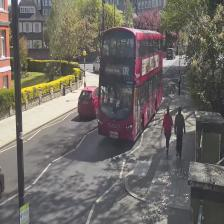person: (161, 106, 173, 156), (174, 106, 185, 156)
